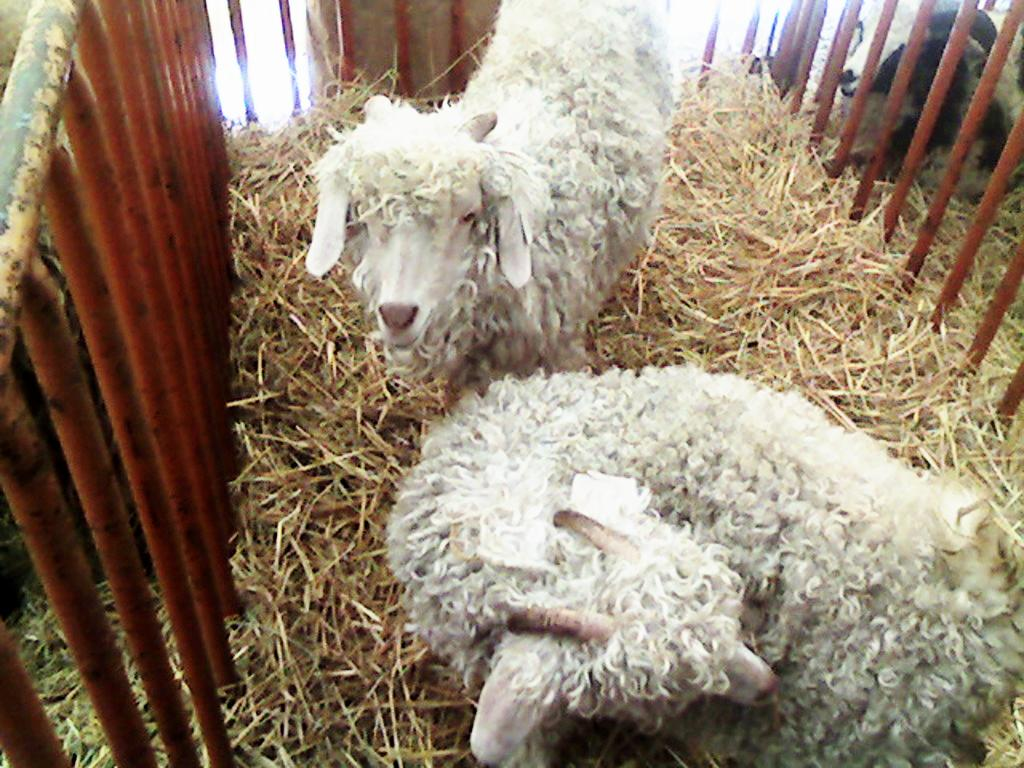Sheep: (380, 364, 1022, 766), (250, 20, 690, 418)
